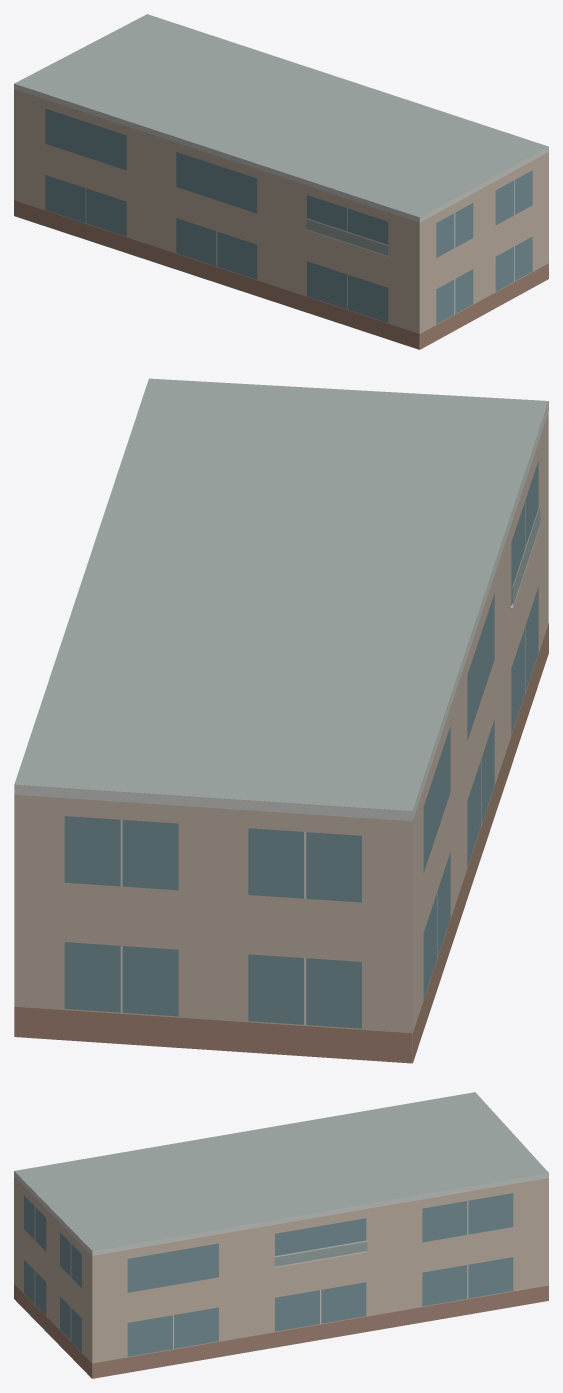
File: survey-upis-33044224.glb
3 renders of one model, top to bottom at view 1: azimuth 30°, elevation 25°; view 2: azimuth 150°, elevation 25°; view 3: azimuth 270°, elevation 25°, orthographic. The views are drawn at different scales.
Parts seen in each view (by area): view 1: survey-upis-33044224.tmp; view 2: survey-upis-33044224.tmp; view 3: survey-upis-33044224.tmp.
Boxes of the visible parts, x1,y1,x2,y2 form: survey-upis-33044224.tmp: (14, 14, 548, 349); survey-upis-33044224.tmp: (14, 378, 548, 1063); survey-upis-33044224.tmp: (14, 1092, 548, 1378).
Bounding box in the file's own units: 16.24 × 6.1 × 23.11.
